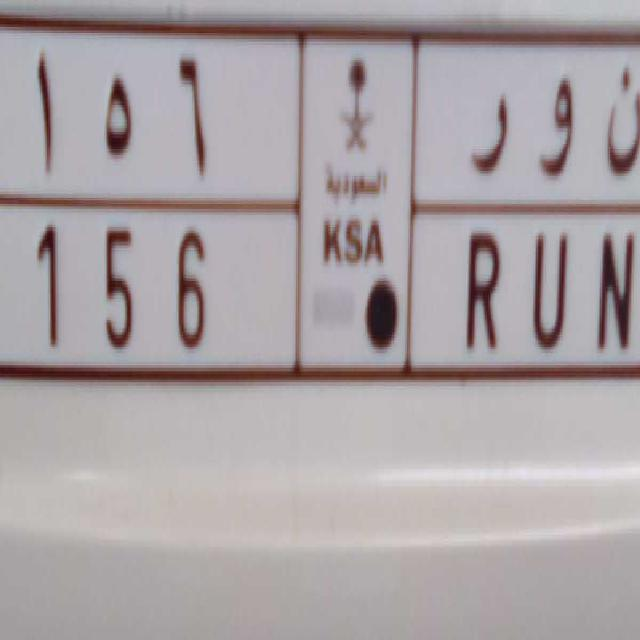license_plate: (0, 187, 640, 379)
